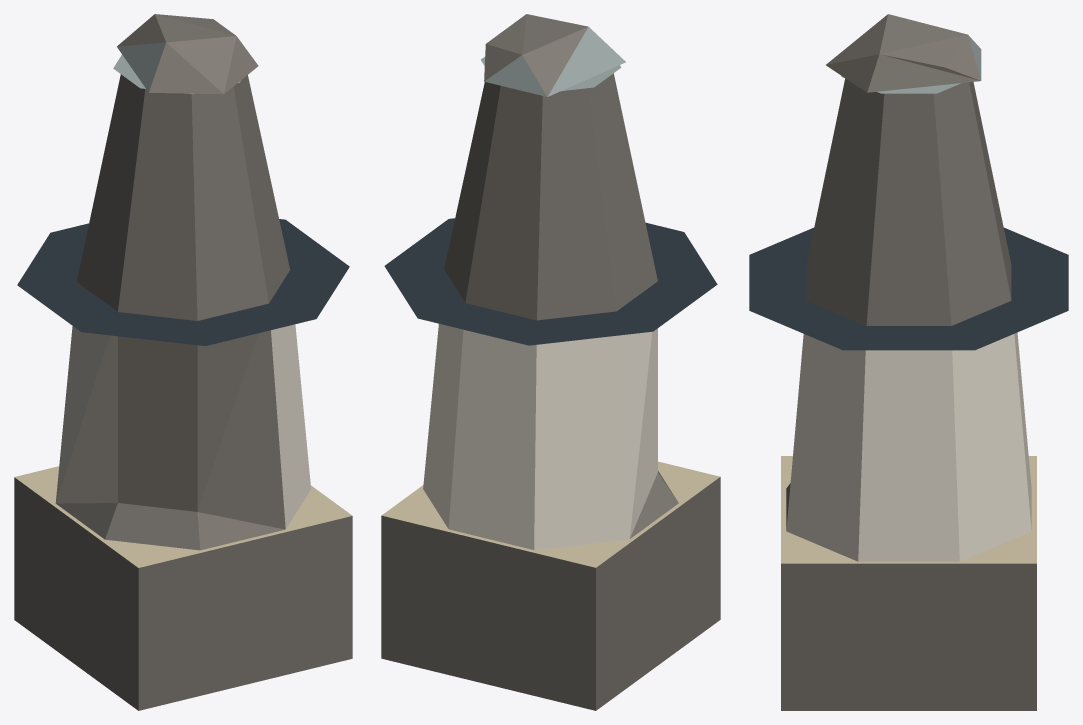
The model's file is de-gooyer.lod2.glb.
3 renders of one model, left to right at view 1: azimuth 30°, elevation 25°; view 2: azimuth 150°, elevation 25°; view 3: azimuth 270°, elevation 25°, orthographic. The views are drawn at different scales.
Parts seen in each view (by area): view 1: lod2; view 2: lod2; view 3: lod2.
Boxes of the visible parts, x1,y1,x2,y2 form: lod2: [14, 14, 352, 710]; lod2: [381, 14, 720, 710]; lod2: [749, 14, 1068, 710].
Size of the model in its own units: 13.77 by 29.93 by 13.76.
